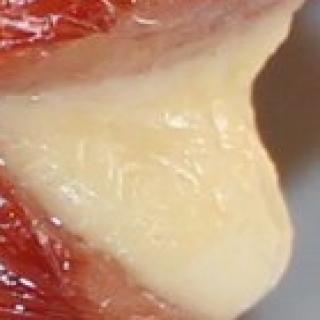cheese: (2, 0, 320, 320)
